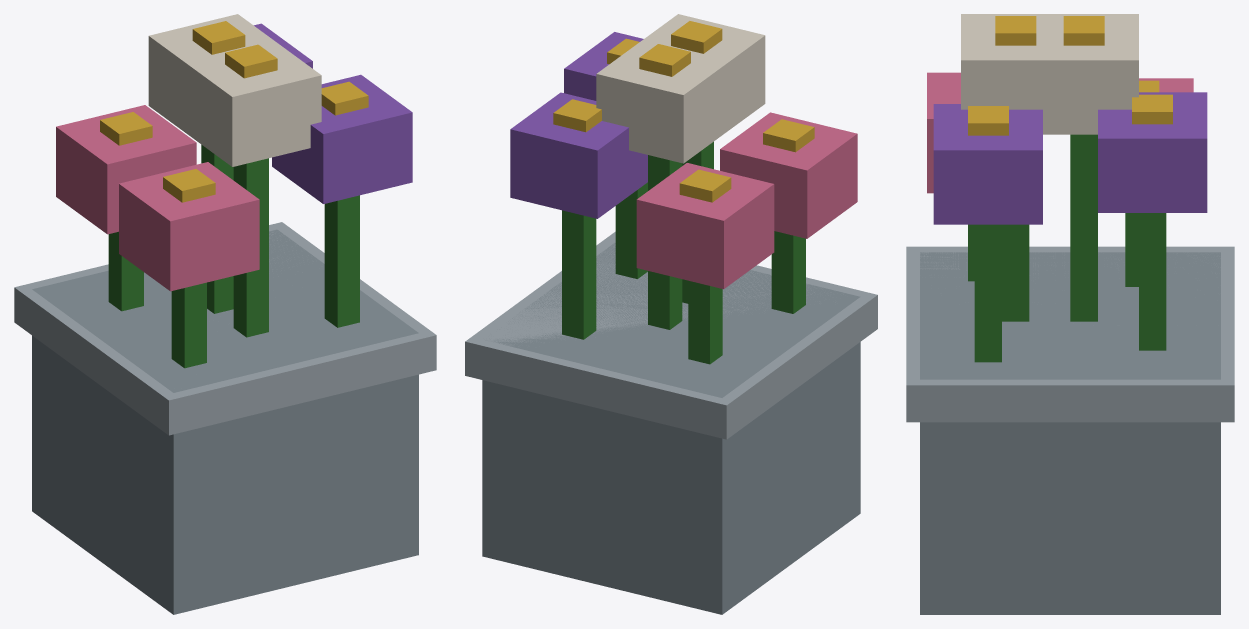
File: cp-flowers-cool.glb
The picture shows the model from 3 angles, left to right: view 1: azimuth 30°, elevation 25°; view 2: azimuth 150°, elevation 25°; view 3: azimuth 270°, elevation 25°; orthographic projection. The views are drawn at different scales.
Parts seen in each view (by area): view 1: box-prop; view 2: box-prop; view 3: box-prop.
Part boxes in pixels (x1,y1,x2,y2): box-prop: (14, 14, 436, 614); box-prop: (465, 14, 877, 614); box-prop: (906, 14, 1234, 614).
Size of the model in its own units: 0.48 by 0.85 by 0.48.
